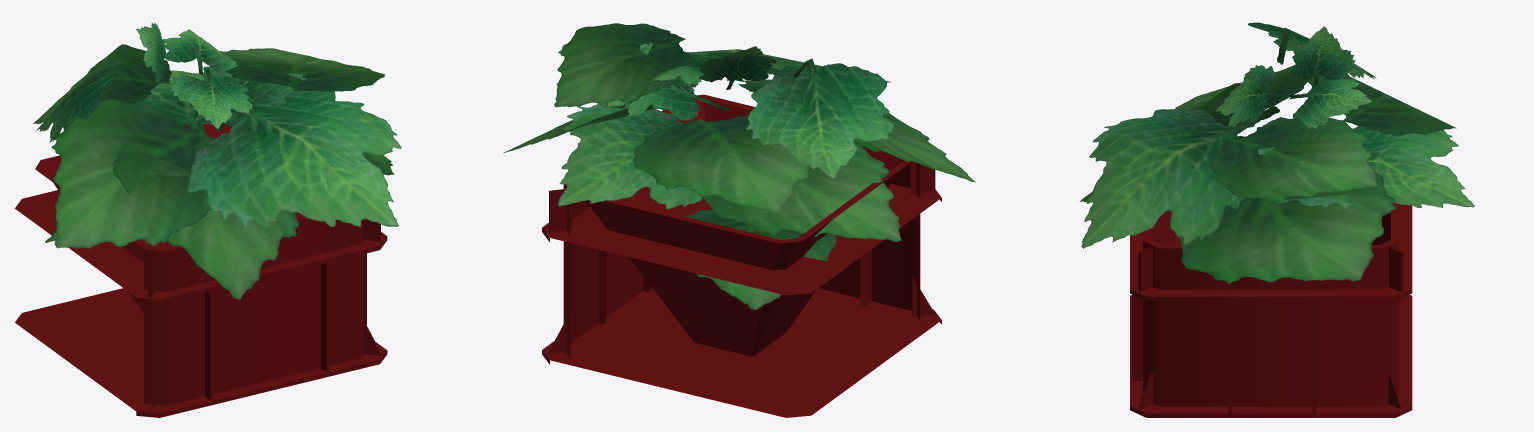
Rendered from M_zhiwu04.FBX.
3 renders of one model, left to right at view 1: azimuth 30°, elevation 25°; view 2: azimuth 150°, elevation 25°; view 3: azimuth 270°, elevation 25°, orthographic. The views are drawn at different scales.
Parts seen in each view (by area): view 1: M_zhiwu04_02, M_zhiwu04_01; view 2: M_zhiwu04_01, M_zhiwu04_02; view 3: M_zhiwu04_02, M_zhiwu04_01.
Part boxes in pixels (x1=…): M_zhiwu04_02: x1=33, y1=22, x2=401, y2=299; M_zhiwu04_01: x1=15, y1=124, x2=387, y2=417; M_zhiwu04_01: x1=542, y1=94, x2=941, y2=417; M_zhiwu04_02: x1=503, y1=23, x2=975, y2=309; M_zhiwu04_02: x1=1079, y1=22, x2=1474, y2=284; M_zhiwu04_01: x1=1130, y1=202, x2=1412, y2=417.
Bounding box in the file's own units: 1.2 × 1.02 × 1.19.
